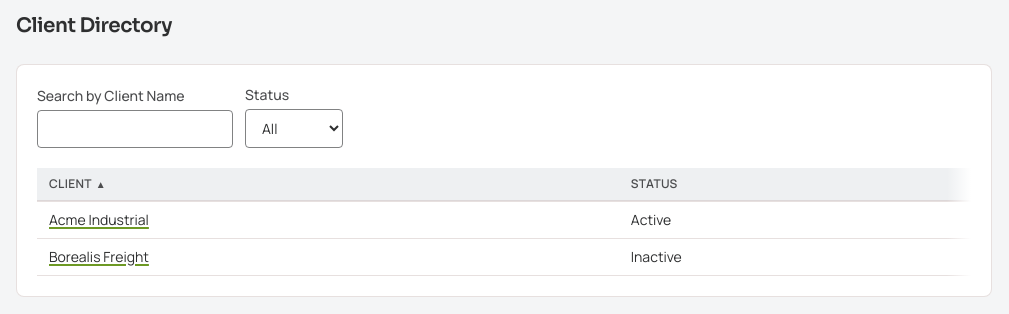
Test case: ClientDirectoryRoute › filters by status locally, sending no request to the server (issue #640)
This screenshot has width=1009, height=314.
Expected: the table is shown, [37,168,971,276]
Select "Active" in the dropdown labelled "Status" at (294, 128), box [245,109,343,148]
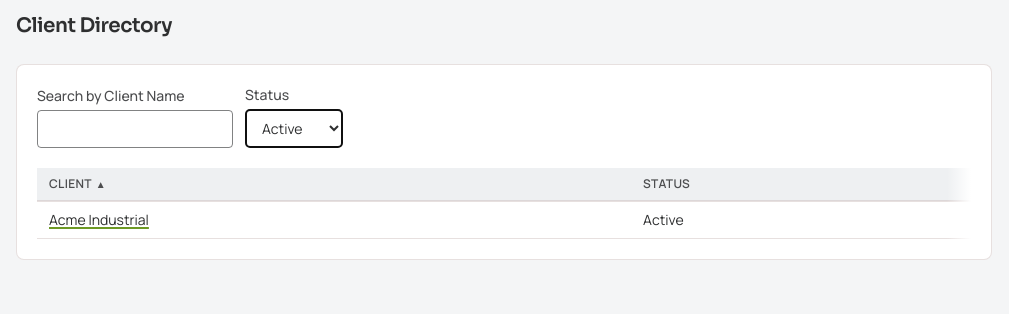
Expected: the link "Acme Industrial" is shown, [49,210,149,229]
Now the link "Borealis Freight" is gone
